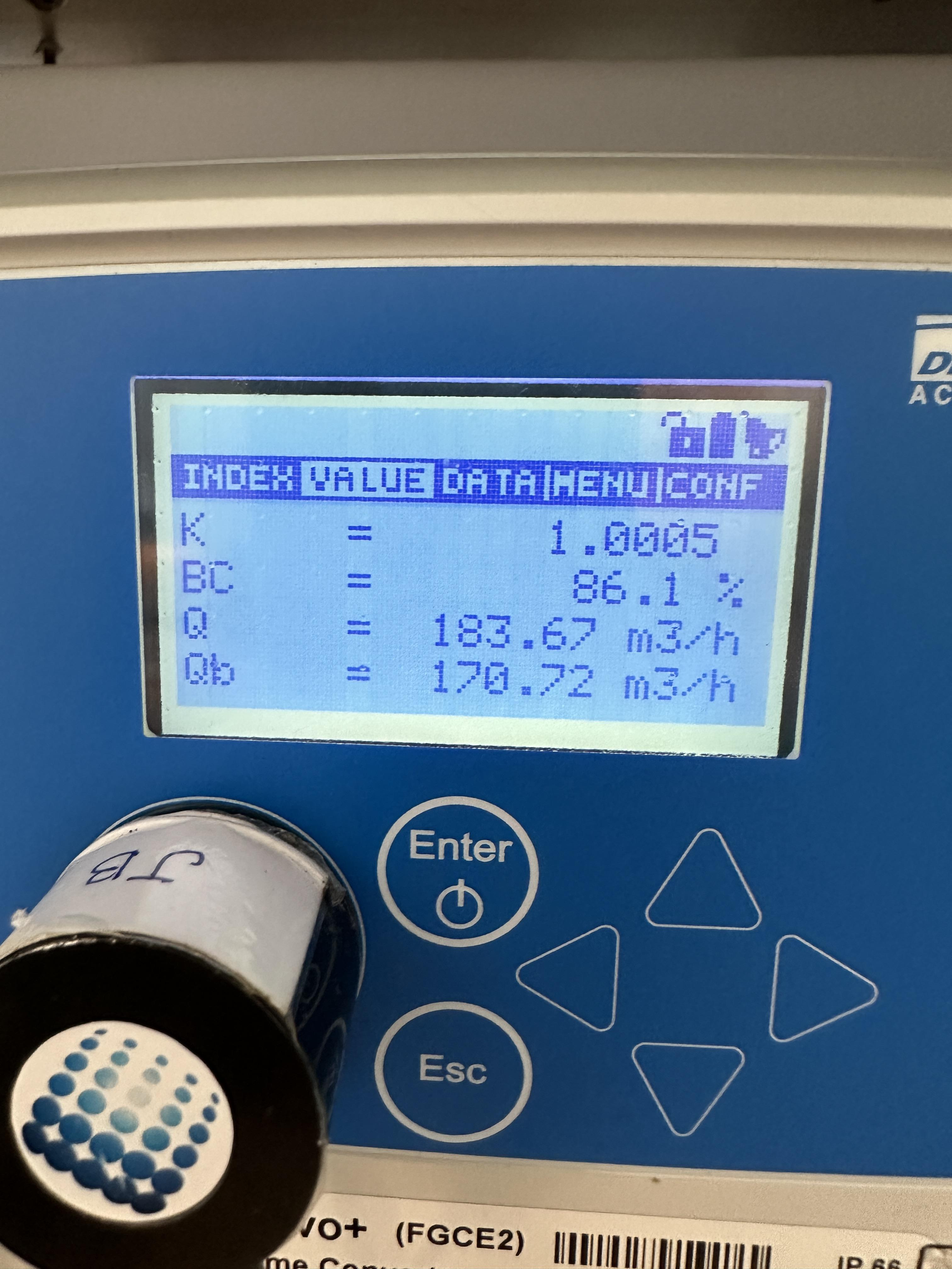digital_screen: (140, 376, 809, 758)
